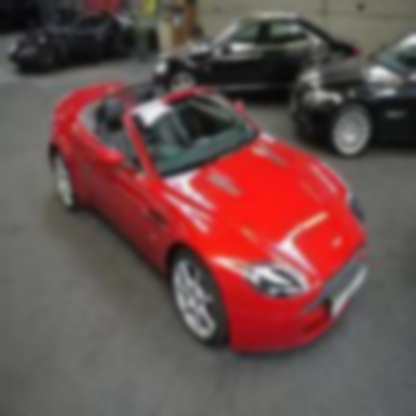Vehicle: (46, 77, 376, 365)
